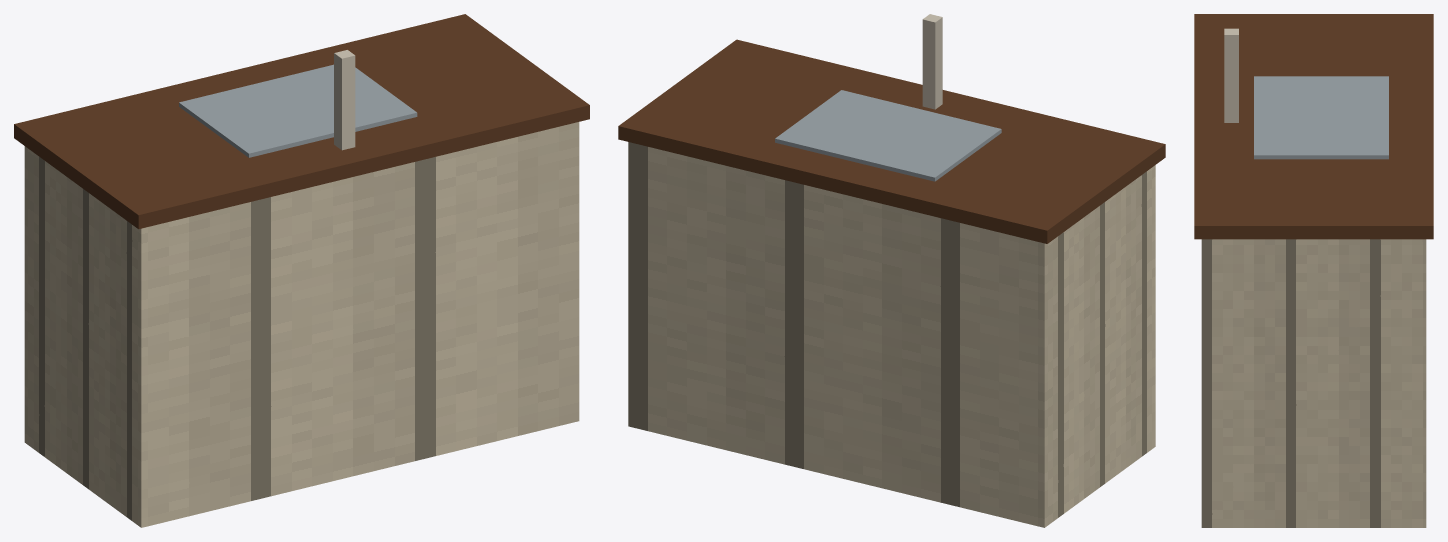
The model's file is sink.glb.
3 views of the same model, side by side, from view 1: azimuth 30°, elevation 25°; view 2: azimuth 150°, elevation 25°; view 3: azimuth 270°, elevation 25° (orthographic). The views are drawn at different scales.
Parts seen in each view (by area): view 1: Box1, Box2, Box3, Box4; view 2: Box1, Box2, Box3, Box4; view 3: Box1, Box2, Box3, Box4.
Boxes of the visible parts, x1,y1,x2,y2 form: Box1: (24, 122, 579, 527); Box2: (14, 14, 589, 229); Box3: (179, 64, 417, 157); Box4: (334, 50, 355, 150); Box1: (628, 142, 1155, 527); Box2: (618, 39, 1165, 243); Box3: (775, 90, 1001, 181); Box4: (922, 14, 942, 109); Box1: (1201, 239, 1426, 527); Box2: (1194, 14, 1433, 239); Box3: (1254, 76, 1388, 159); Box4: (1224, 28, 1238, 122).
Size of the model in its own units: 1.34 by 1.16 by 0.64.
Materials: 4 (1 with a texture image).
